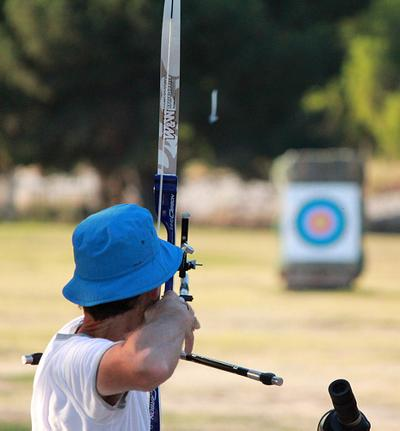person: (31, 204, 200, 431)
